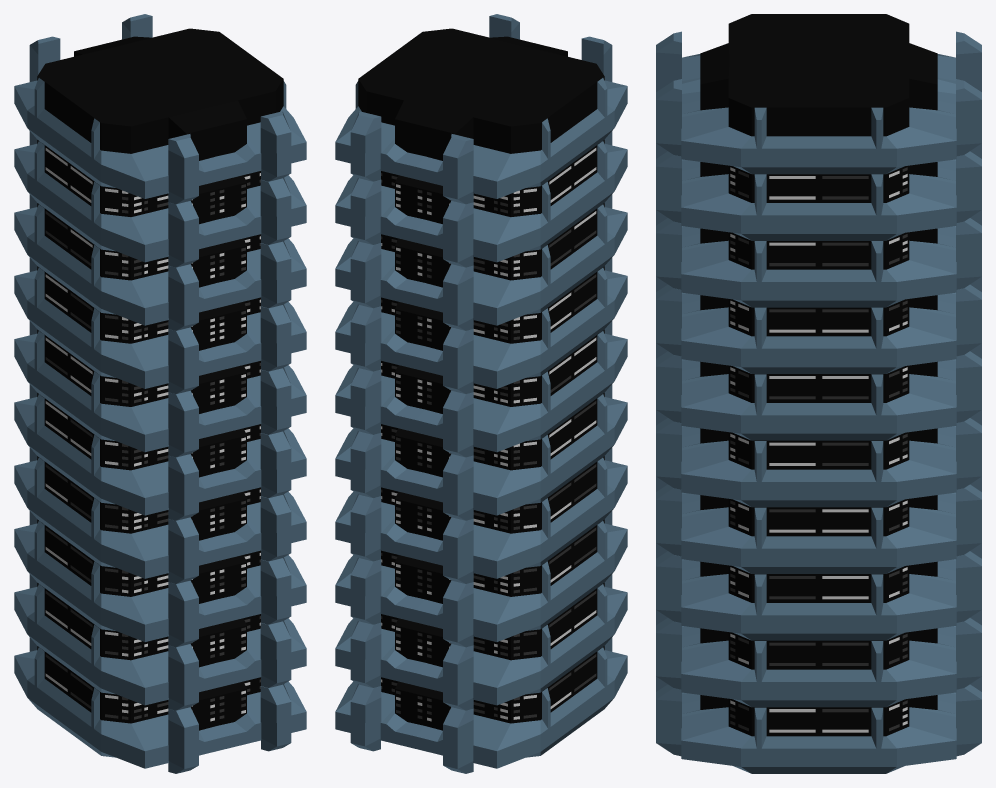
Rendered from building_030.glb.
3 renders of one model, left to right at view 1: azimuth 30°, elevation 25°; view 2: azimuth 150°, elevation 25°; view 3: azimuth 270°, elevation 25°, orthographic. The views are drawn at different scales.
Parts seen in each view (by area): view 1: building.030; view 2: building.030; view 3: building.030.
Part boxes in pixels (x1,y1,x2,y2): building.030: (14,14,306,773); building.030: (335,14,627,773); building.030: (656,14,981,773).
Size of the model in its own units: 3.52 by 11.06 by 4.9.
